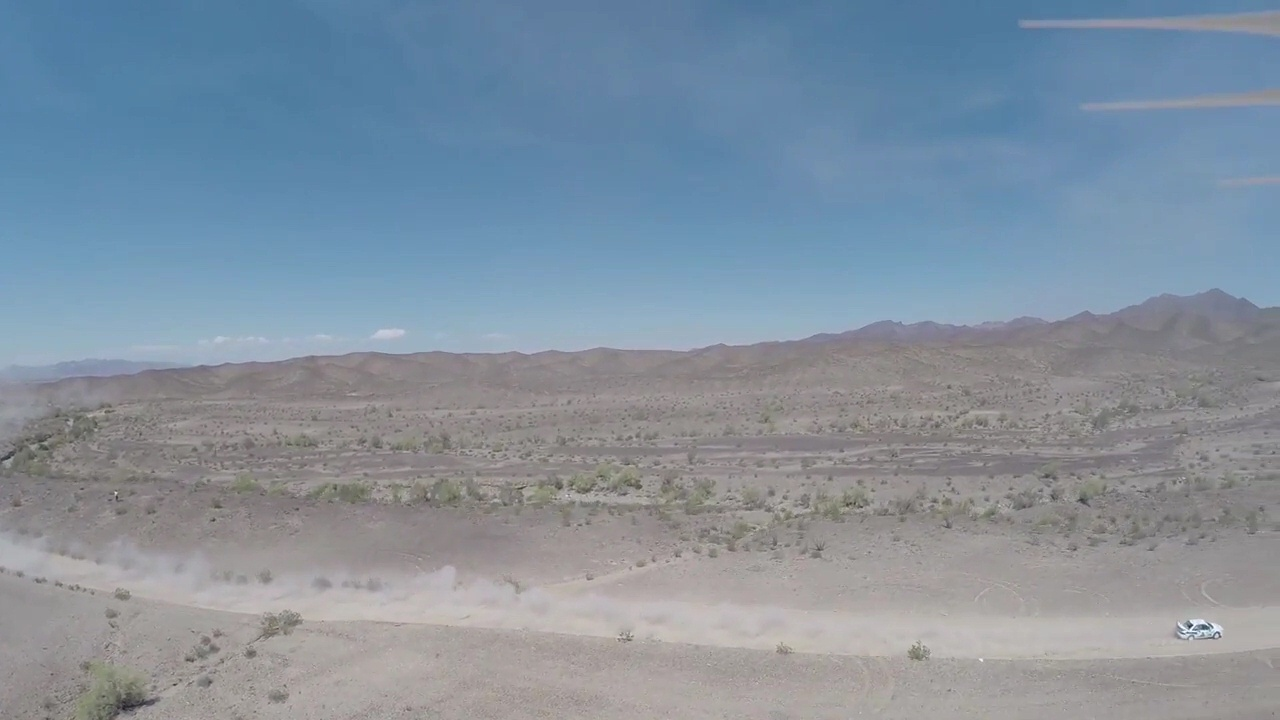araba: (1176, 617, 1223, 646)
